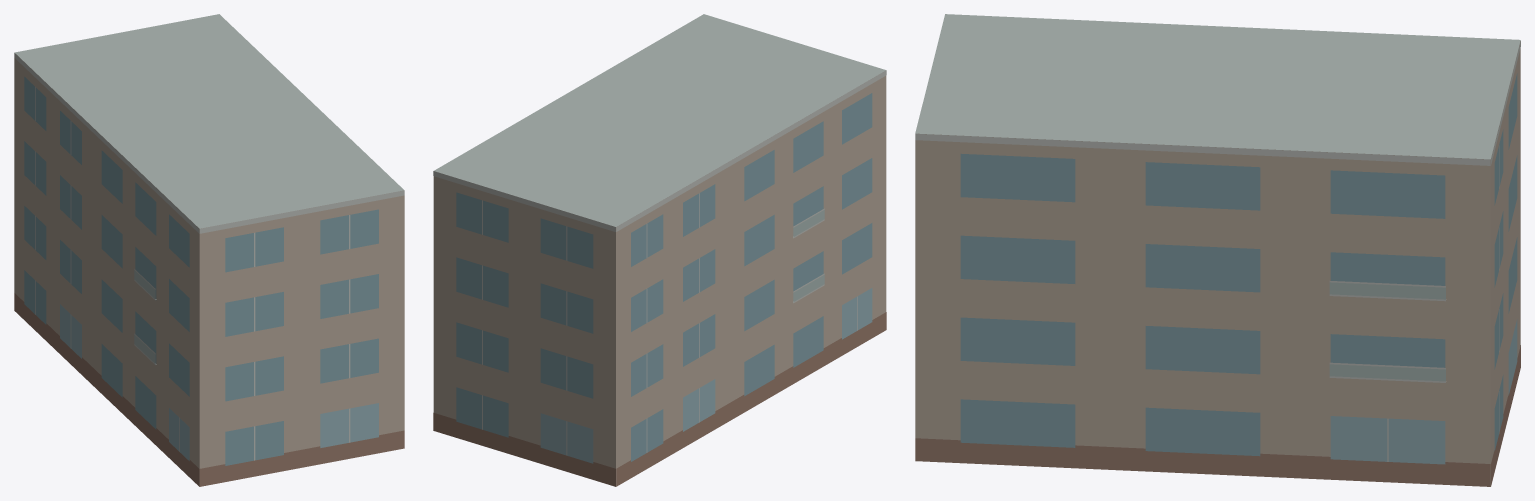
The model's file is residential-1e911acb-825c-4ce4-932e-27b4f3545aab.glb.
3 views of the same model, side by side, from view 1: azimuth 30°, elevation 25°; view 2: azimuth 150°, elevation 25°; view 3: azimuth 270°, elevation 25° (orthographic). The views are drawn at different scales.
Parts seen in each view (by area): view 1: residential-1e911acb-825c-4ce4-932e-27b4f3545aab.tmp; view 2: residential-1e911acb-825c-4ce4-932e-27b4f3545aab.tmp; view 3: residential-1e911acb-825c-4ce4-932e-27b4f3545aab.tmp.
Part boxes in pixels (x1=…): residential-1e911acb-825c-4ce4-932e-27b4f3545aab.tmp: x1=14, y1=14, x2=404, y2=486; residential-1e911acb-825c-4ce4-932e-27b4f3545aab.tmp: x1=433, y1=14, x2=886, y2=486; residential-1e911acb-825c-4ce4-932e-27b4f3545aab.tmp: x1=915, y1=14, x2=1520, y2=486.
Size of the model in its own units: 11.63 by 12.2 by 20.46.
